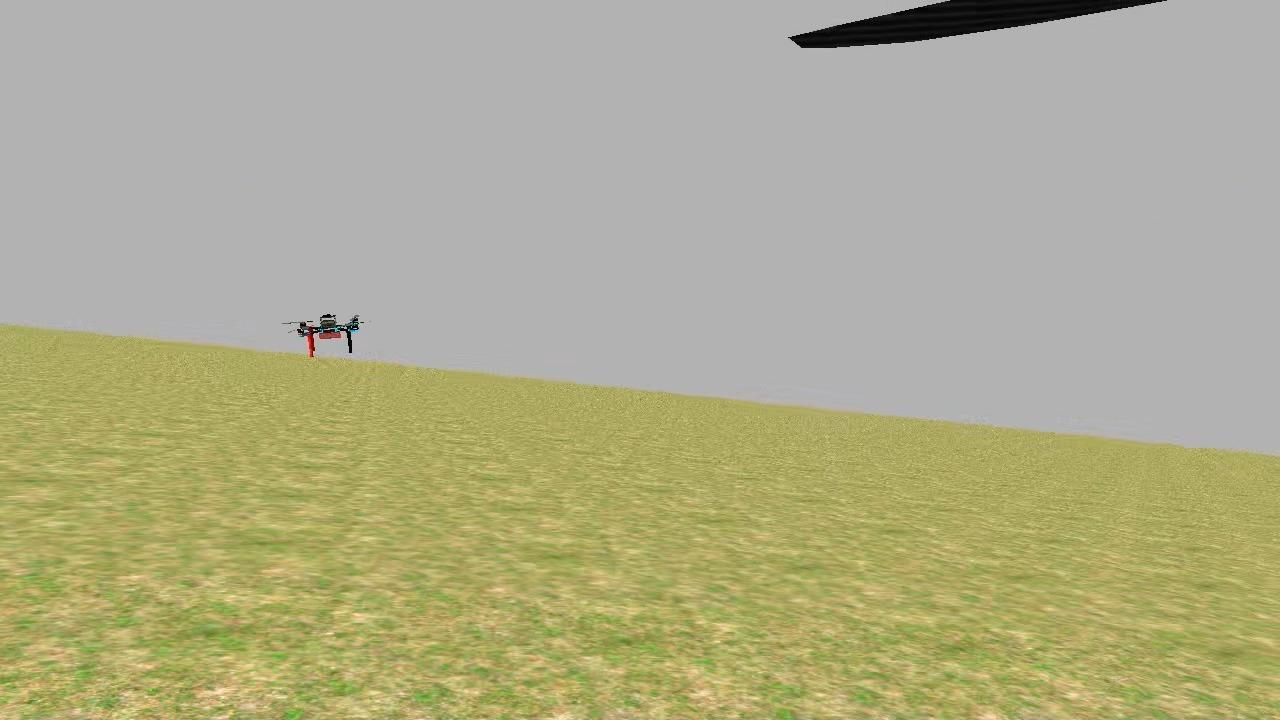UAV: (293, 308, 377, 360)
